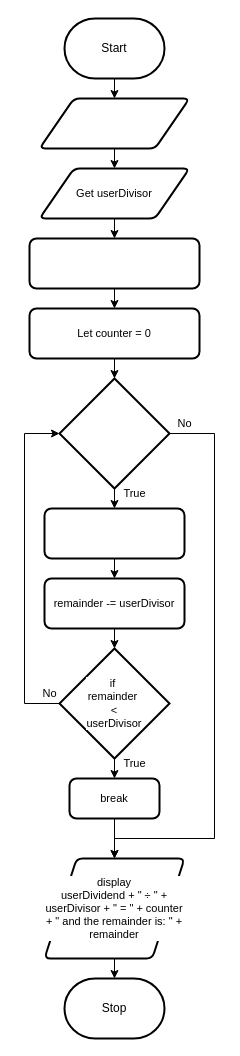
This 240x1056 diagram has some shape labels left out. Here are the shapes that lost their labels. From the top down, the centre of each, then its label:
At (x=114, y=123): "Get userDividend".
At (x=114, y=263): "Let remainder = userDividend".
At (x=114, y=433): "while True".
At (x=114, y=533): "counter++".
